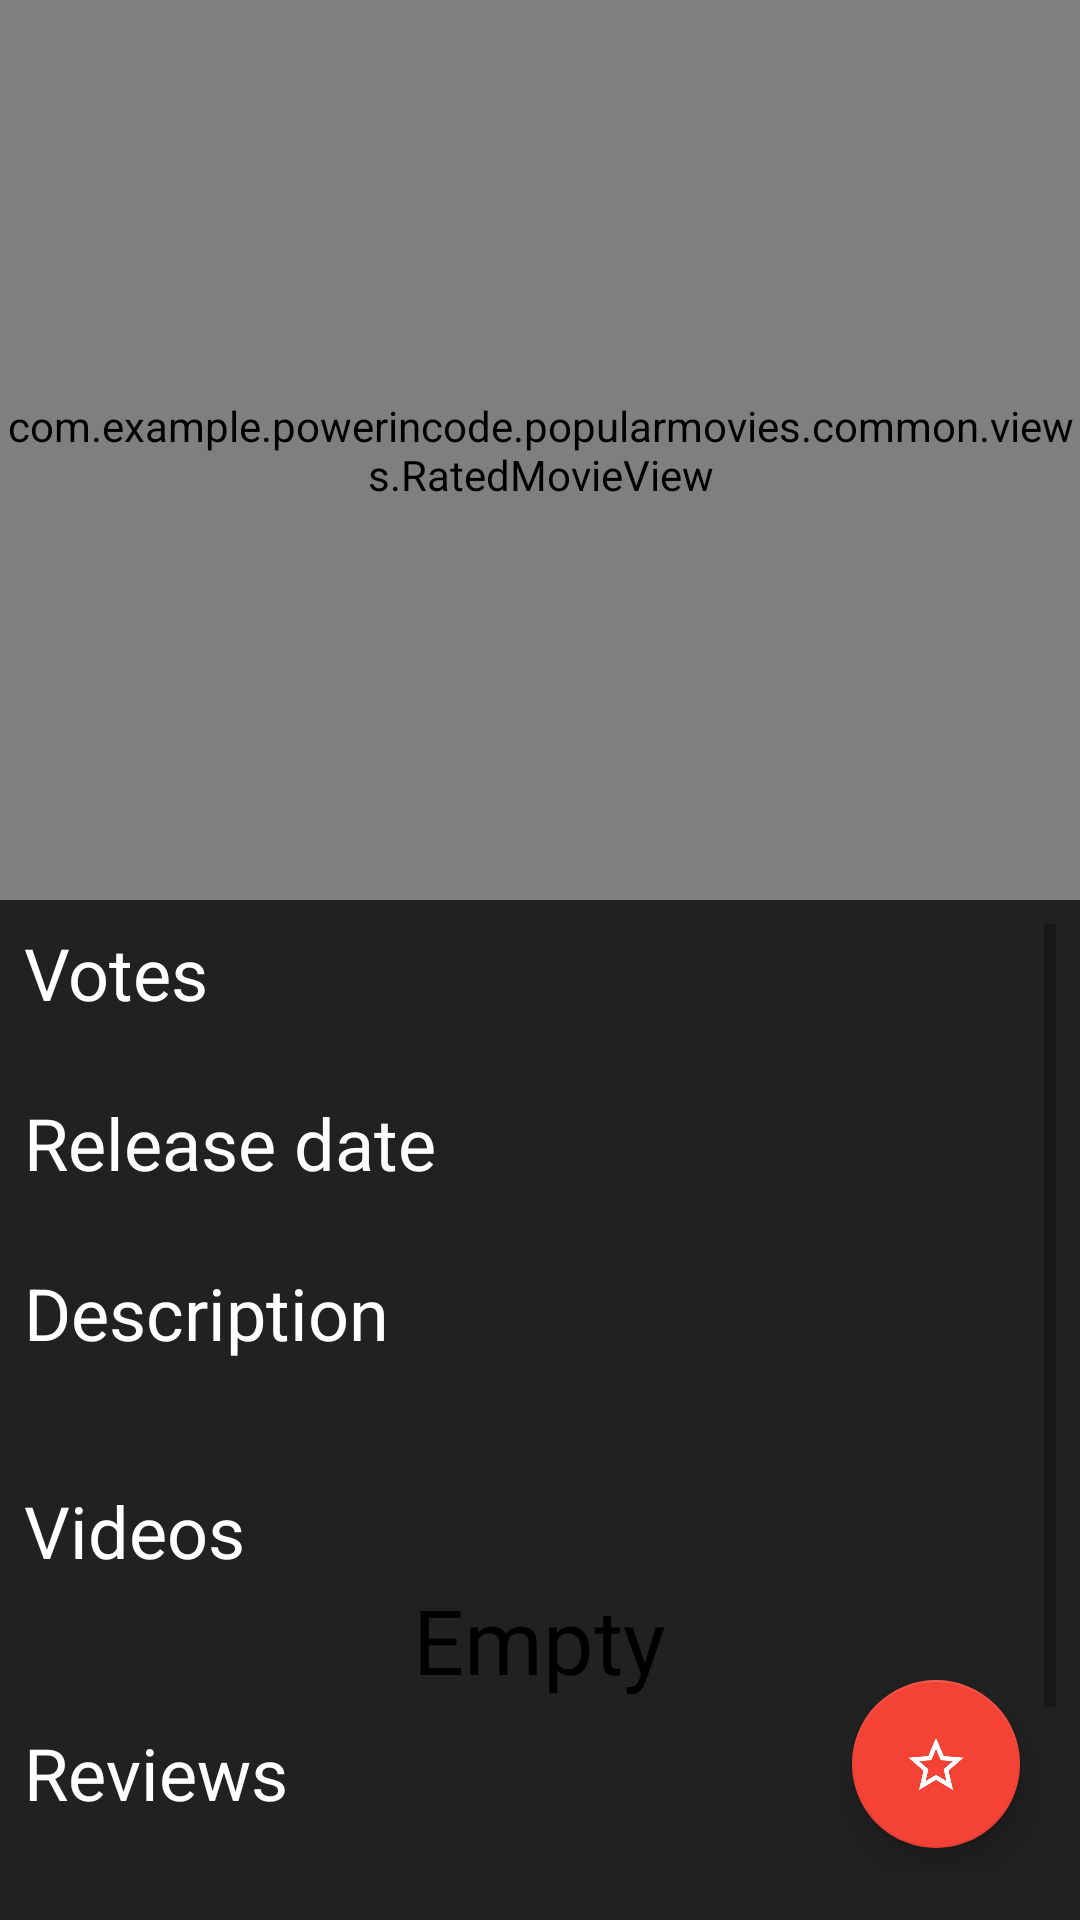

Icon bounding boxes for this 1080×1920 phone screenshot, format bbox=[x1, y1, x2, y2]:
star: bbox=[852, 1680, 1020, 1848]
